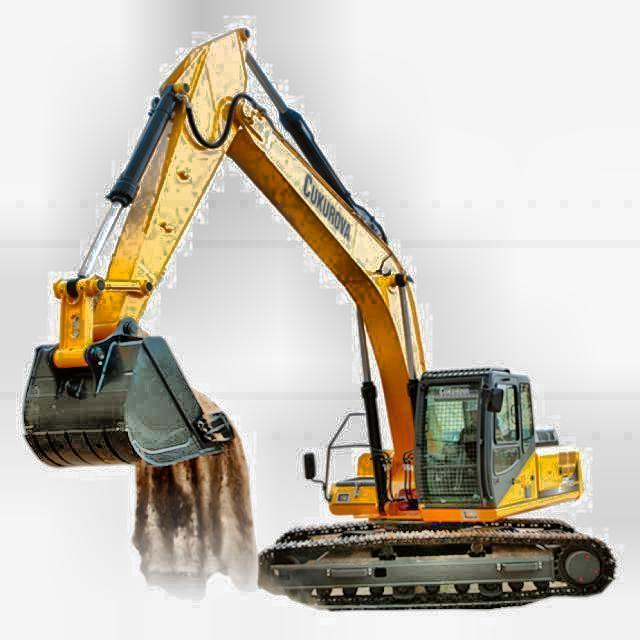excavator: (21, 22, 618, 613)
